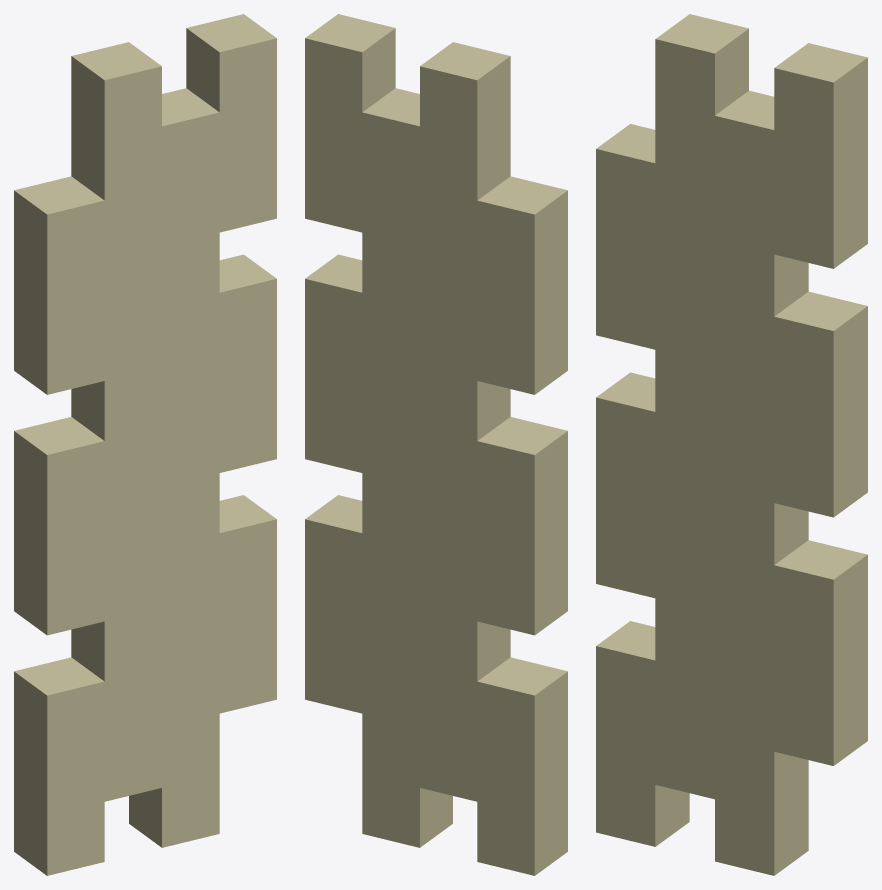
3 views of the same model, side by side, from view 1: azimuth 30°, elevation 25°; view 2: azimuth 150°, elevation 25°; view 3: azimuth 330°, elevation 25° (orthographic). The views are drawn at different scales.
Visible parts, largest first — view 1: Cube_0_2_4, Cube_0_13, Cube_0_2, Cube_0_2_3, Cube_0_9, Cube_0, Cube_0_5, Cube_0_1, Cube_0_2_2, Cube_0_3_3, Cube_0_1_2, Cube_0_1_3 (+30 smaller); view 2: Cube_0_2_4, Cube_0_13, Cube_0_2, Cube_0_2_3, Cube_0_9, Cube_0, Cube_0_5, Cube_0_1, Cube_0_2_2, Cube_0_3_3, Cube_0_1_2, Cube_0_1_3 (+30 smaller); view 3: Cube_0_13_2, Cube_0_13, Cube_0_9, Cube_0_13_3, Cube_0_12, Cube_0_11, Cube_0_12_2, Cube_0_11_2, Cube_0_12_3, Cube_0_11_3, Cube_0_6_3, Cube_0_3_3 (+30 smaller).
Boxes of the visible parts, bbox=[...] form: Cube_0_2_4: bbox=[14, 657, 104, 755]; Cube_0_13: bbox=[186, 14, 276, 112]; Cube_0_2: bbox=[14, 176, 104, 274]; Cube_0_2_3: bbox=[14, 417, 104, 514]; Cube_0_9: bbox=[71, 42, 161, 140]; Cube_0: bbox=[14, 311, 104, 394]; Cube_0_5: bbox=[71, 116, 161, 200]; Cube_0_1: bbox=[14, 250, 104, 334]; Cube_0_2_2: bbox=[14, 551, 104, 635]; Cube_0_3_3: bbox=[14, 792, 104, 875]; Cube_0_1_2: bbox=[14, 491, 104, 575]; Cube_0_1_3: bbox=[14, 731, 104, 815]; Cube_0_2_4: bbox=[477, 657, 567, 755]; Cube_0_13: bbox=[305, 14, 395, 112]; Cube_0_2: bbox=[477, 176, 567, 274]; Cube_0_2_3: bbox=[477, 417, 567, 514]; Cube_0_9: bbox=[420, 42, 510, 140]; Cube_0: bbox=[477, 311, 567, 394]; Cube_0_5: bbox=[420, 116, 510, 200]; Cube_0_1: bbox=[477, 250, 567, 334]; Cube_0_2_2: bbox=[477, 551, 567, 635]; Cube_0_3_3: bbox=[477, 792, 567, 875]; Cube_0_1_2: bbox=[477, 491, 567, 575]; Cube_0_1_3: bbox=[477, 731, 567, 815]; Cube_0_13_2: bbox=[774, 291, 867, 393]; Cube_0_13: bbox=[774, 43, 867, 144]; Cube_0_9: bbox=[655, 14, 748, 115]; Cube_0_13_3: bbox=[774, 540, 867, 641]; Cube_0_12: bbox=[774, 120, 867, 206]; Cube_0_11: bbox=[774, 182, 867, 268]; Cube_0_12_2: bbox=[774, 368, 867, 455]; Cube_0_11_2: bbox=[774, 430, 867, 517]; Cube_0_12_3: bbox=[774, 617, 867, 703]; Cube_0_11_3: bbox=[774, 679, 867, 765]; Cube_0_6_3: bbox=[715, 789, 808, 875]; Cube_0_3_3: bbox=[596, 770, 689, 846].
Bounding box in the file's own units: 296 × 963 × 74.09.
